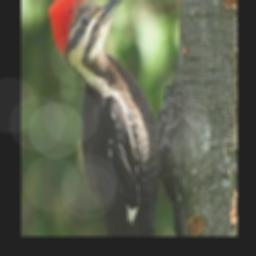Woodpecker: (49, 0, 182, 234)
